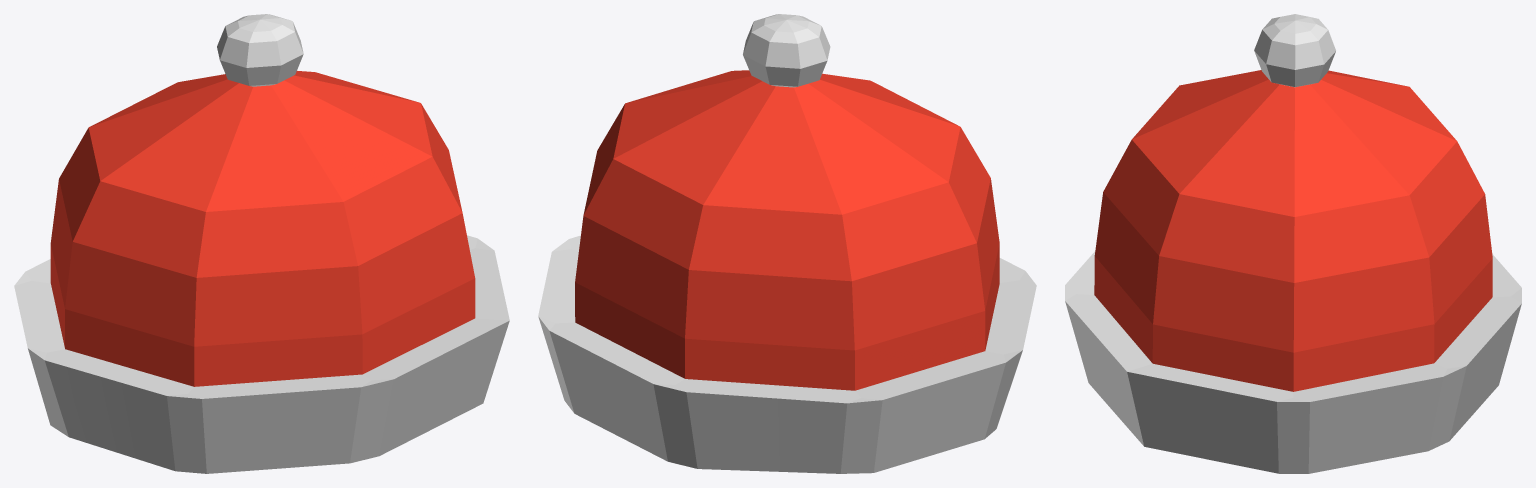
Rendered from WinterHat.fbx.
The picture shows the model from 3 angles, left to right: view 1: azimuth 30°, elevation 25°; view 2: azimuth 150°, elevation 25°; view 3: azimuth 270°, elevation 25°; orthographic projection. The views are drawn at different scales.
Parts seen in each view (by area): view 1: Cylinder; view 2: Cylinder; view 3: Cylinder.
Boxes of the visible parts, left/top/right/bottom form: Cylinder: left=14, top=14, right=509, bottom=473; Cylinder: left=538, top=14, right=1036, bottom=473; Cylinder: left=1065, top=14, right=1521, bottom=473.
Size of the model in its own units: 2.08 by 1.61 by 1.86.
